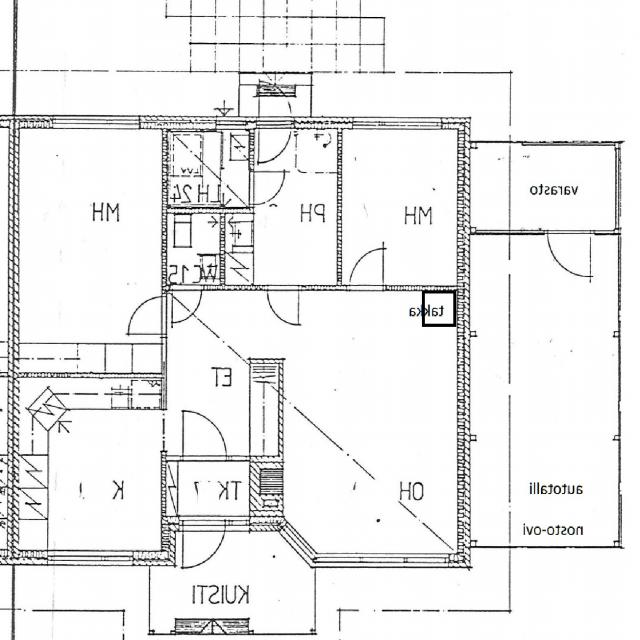door: (183, 516, 226, 577), (184, 409, 227, 461), (548, 230, 591, 281), (259, 116, 293, 166), (259, 80, 293, 130), (127, 296, 166, 334), (350, 249, 383, 290), (268, 285, 300, 325), (249, 172, 283, 204), (173, 285, 202, 321)
